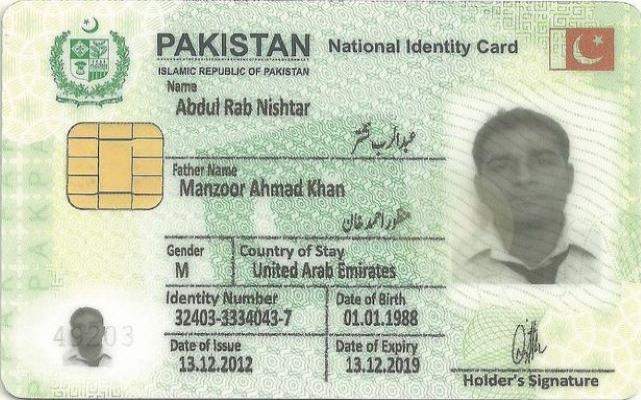fname: (174, 176, 352, 200)
name: (172, 96, 314, 118)
number: (172, 305, 295, 330)
